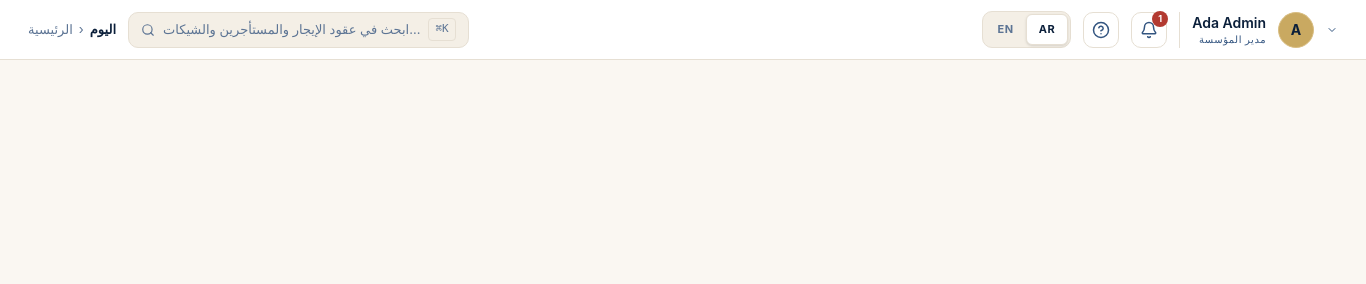
Test: TopHeader bell — a refused mark-read › zeroes the badge once it succeeds
Click the button "1" at (1149, 30), box [1131,12,1167,48]
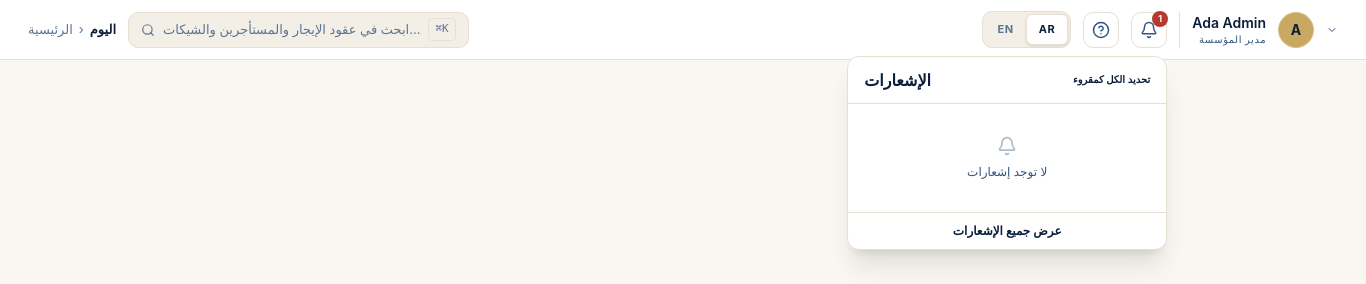
Click the button "تحديد الكل كمقروء" at (1112, 80), box [1073,72,1150,87]
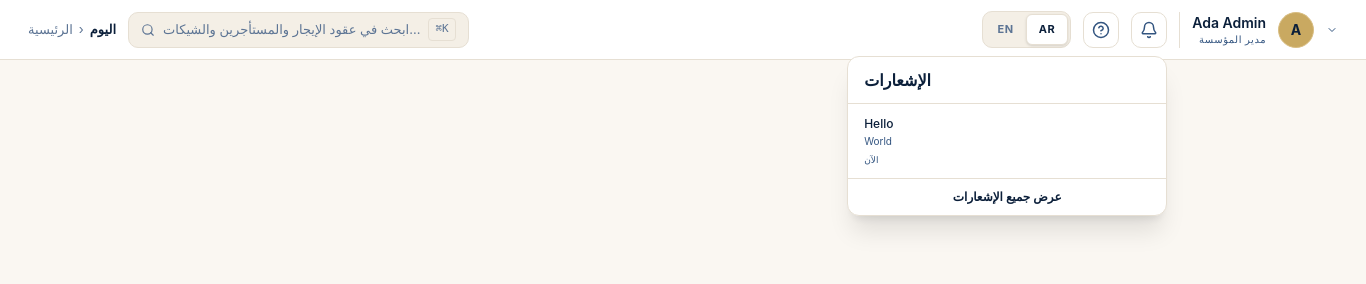
Result: the button with test id "header-notifications" no longer shows "1" at [1131,12,1167,48]
